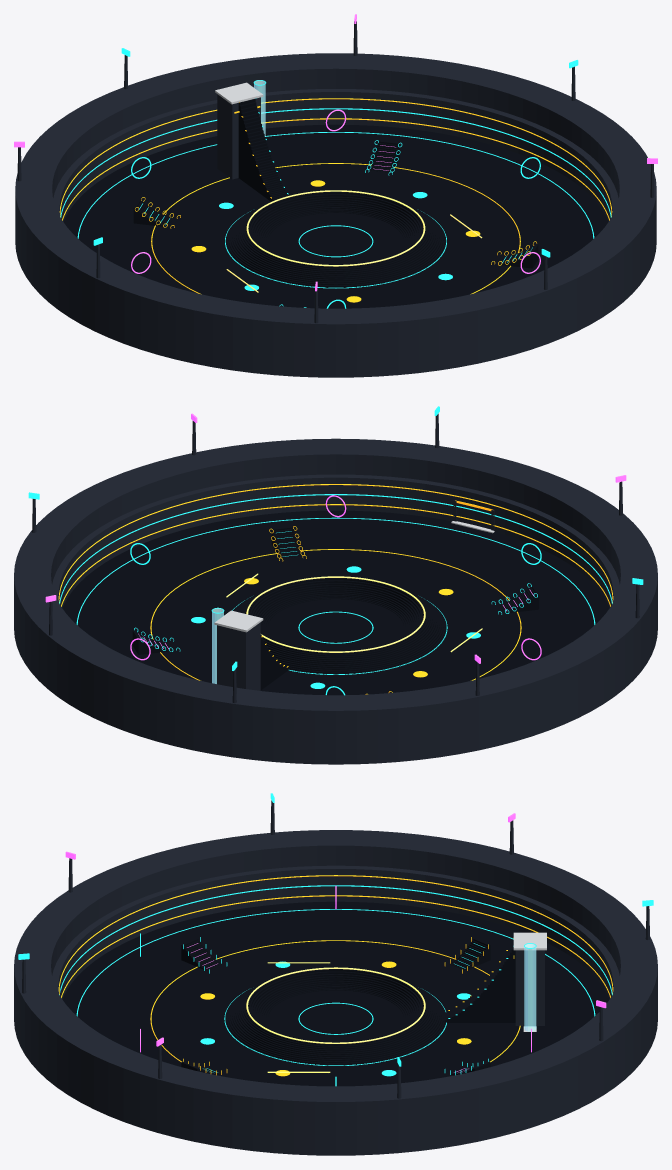
File: shaddai_hover_park_v01.glb
The picture shows the model from 3 angles, top to bottom: view 1: azimuth 30°, elevation 25°; view 2: azimuth 150°, elevation 25°; view 3: azimuth 270°, elevation 25°; orthographic projection.
Visible parts, largest first — view 1: hover_park; view 2: hover_park; view 3: hover_park.
Boxes of the visible parts, x1,y1,x2,y2 form: hover_park: (14,14,657,377); hover_park: (14,406,657,764); hover_park: (14,793,657,1155).
Size of the model in its own units: 348 by 56.2 by 348.
